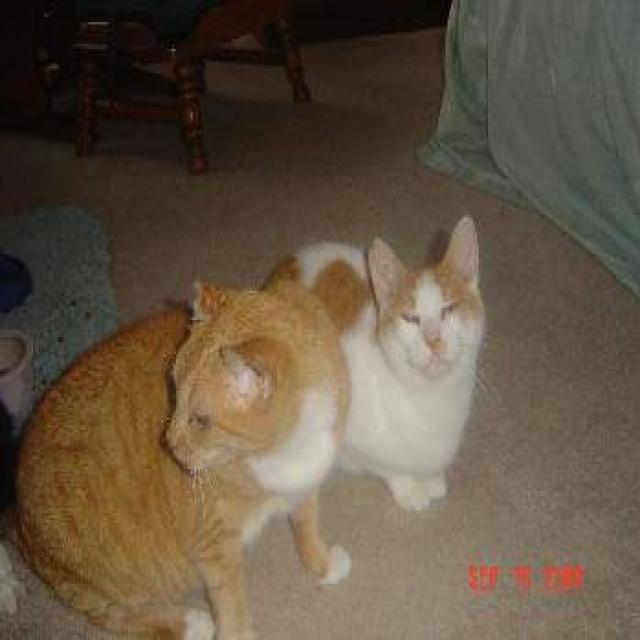cat: (7, 254, 352, 638), (260, 212, 488, 513)
